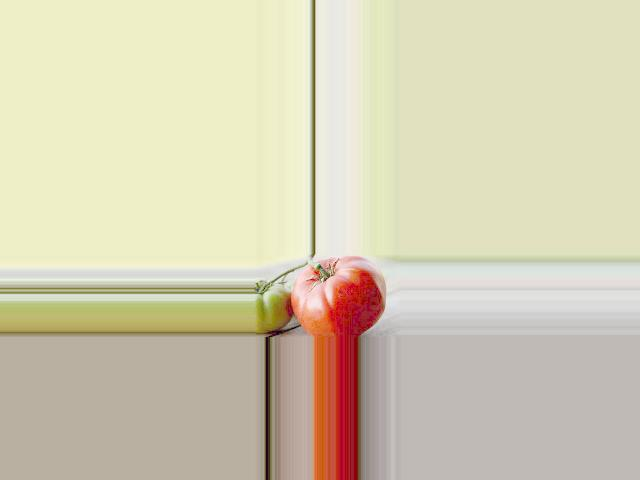tomato: (291, 255, 387, 338)
